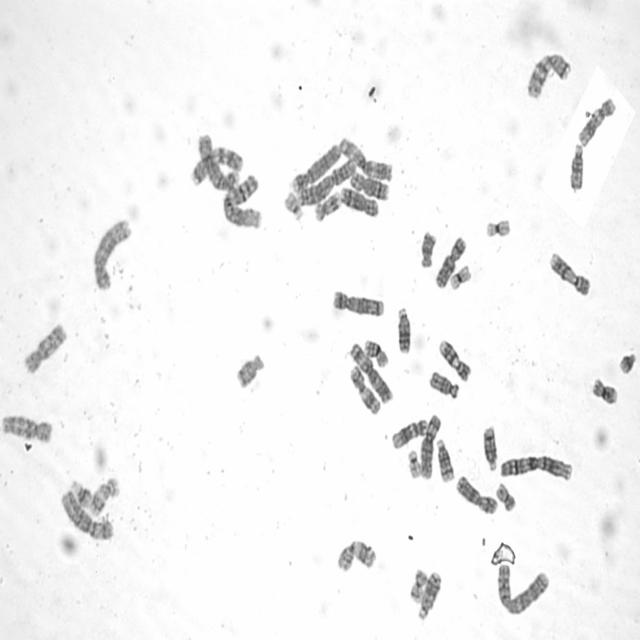A1: (219, 171, 263, 233), (498, 452, 574, 483)
A2: (293, 155, 358, 206), (494, 560, 551, 618)
A3: (347, 338, 394, 405), (337, 134, 394, 183)
B4: (288, 140, 341, 194), (194, 132, 236, 189)
B5: (93, 219, 133, 292), (330, 287, 386, 318)
C10: (21, 319, 68, 376), (0, 411, 53, 444)
C11: (348, 362, 382, 418), (334, 536, 378, 574)
C12: (576, 94, 618, 148), (390, 415, 429, 450)
C6: (59, 487, 115, 542), (418, 410, 442, 480)
C7: (524, 48, 573, 100), (189, 150, 247, 187)
C8: (338, 184, 380, 218), (348, 170, 392, 202)
C9: (548, 248, 592, 298), (436, 335, 471, 383)
D13: (416, 567, 442, 621), (394, 304, 412, 355)
D14: (434, 435, 456, 485), (480, 422, 499, 472)
D15: (428, 368, 461, 400), (568, 140, 586, 194)
E16: (588, 374, 620, 406), (362, 336, 390, 368)
E17: (88, 473, 121, 518), (312, 188, 342, 224)
E18: (234, 350, 266, 390), (418, 228, 437, 270)
F19: (448, 262, 472, 292), (483, 215, 512, 239)
F20: (493, 479, 518, 514), (412, 571, 429, 601)
G21: (70, 476, 94, 508), (616, 348, 639, 375)
G22: (282, 188, 305, 222), (406, 446, 422, 479)
X: (454, 472, 499, 517), (433, 234, 467, 290)
